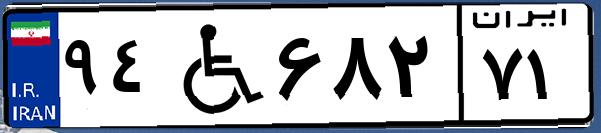1: (525, 38, 570, 115)
2: (385, 28, 445, 110)
4: (110, 28, 158, 98)
6: (270, 28, 330, 110)
7: (475, 38, 525, 113)
8: (330, 28, 385, 110)
9: (57, 26, 110, 100)
ژ (معلولین و جانبازان): (158, 12, 270, 120)
